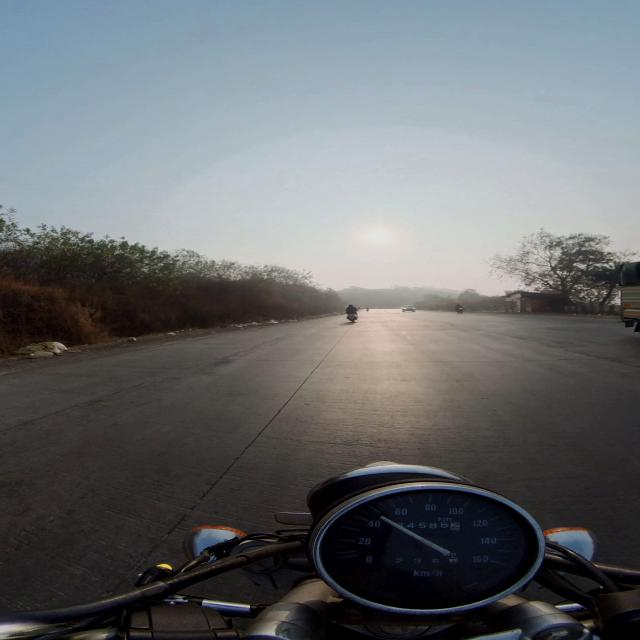car: (402, 306, 415, 312)
motorcycle: (0, 462, 639, 639), (347, 313, 357, 322)
